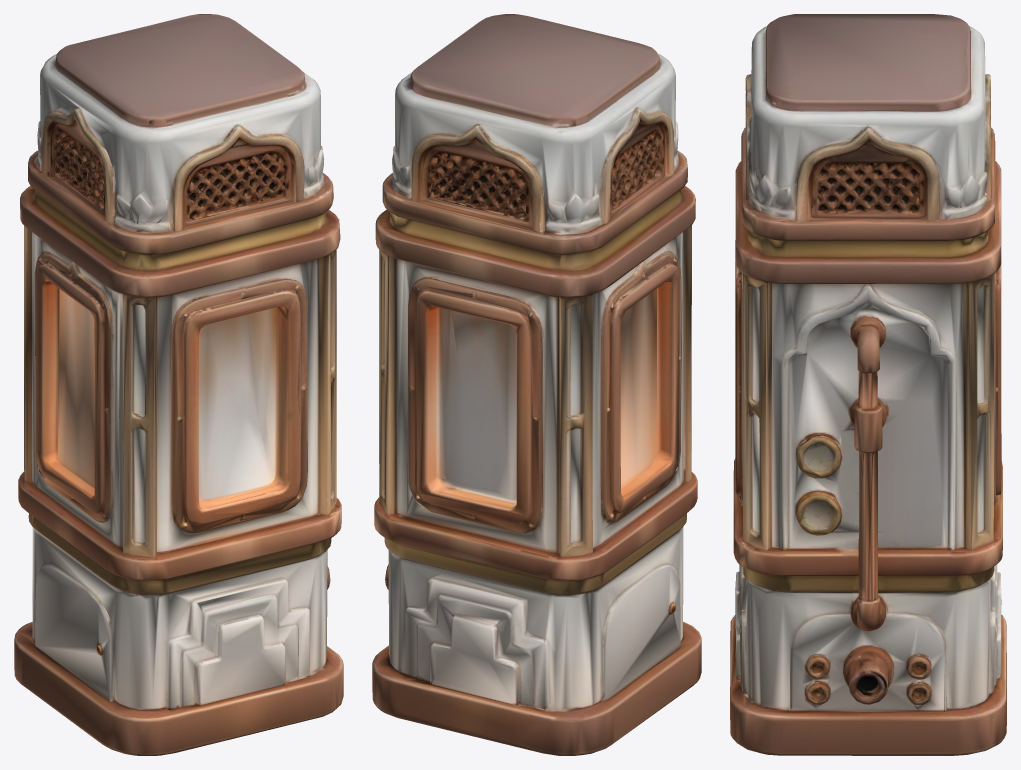
The model's file is silicon_furnace.glb.
3 views of the same model, side by side, from view 1: azimuth 30°, elevation 25°; view 2: azimuth 150°, elevation 25°; view 3: azimuth 270°, elevation 25° (orthographic). The views are drawn at different scales.
Parts seen in each view (by area): view 1: node_0; view 2: node_0; view 3: node_0.
Boxes of the visible parts, x1,y1,x2,y2 form: node_0: (14,14,343,755); node_0: (372,14,701,755); node_0: (730,14,1006,755).
Size of the model in its own units: 1.05 by 2.4 by 0.9373.
Materials: 1 (1 with a texture image).
